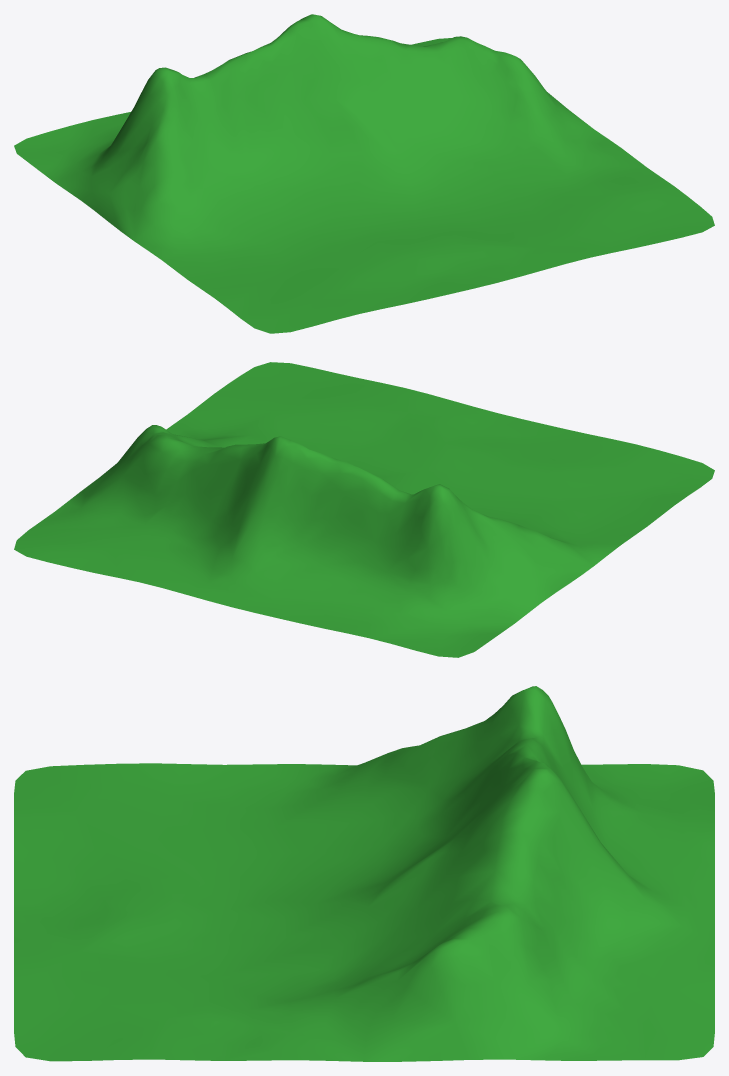
Rendered from Terrain_MountainRange_Green.fbx.
3 views of the same model, one above another, from view 1: azimuth 30°, elevation 25°; view 2: azimuth 150°, elevation 25°; view 3: azimuth 270°, elevation 25° (orthographic). The views are drawn at different scales.
Visible parts, largest first — view 1: terrain-mountain-range; view 2: terrain-mountain-range; view 3: terrain-mountain-range.
Boxes of the visible parts, x1=… form: terrain-mountain-range: x1=14, y1=14, x2=714, y2=333; terrain-mountain-range: x1=14, y1=362, x2=714, y2=657; terrain-mountain-range: x1=14, y1=686, x2=714, y2=1061.
Bounding box in the file's own units: 6000 × 1487 × 6000.
Materials: 1 (1 with a texture image).
